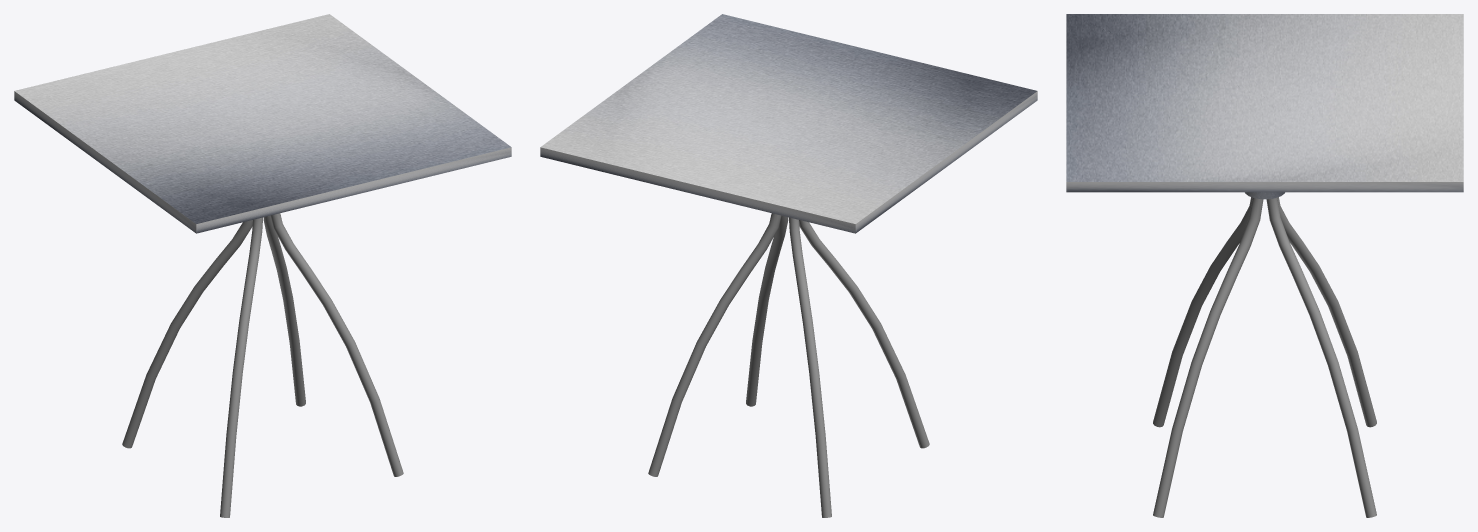
The model's file is MesaCafeteria.FBX.
3 views of the same model, side by side, from view 1: azimuth 30°, elevation 25°; view 2: azimuth 150°, elevation 25°; view 3: azimuth 270°, elevation 25° (orthographic). The views are drawn at different scales.
Parts seen in each view (by area): view 1: Tabla, Patas; view 2: Tabla, Patas; view 3: Tabla, Patas.
Boxes of the visible parts, box(x1,y1,x2,y2) form: Tabla: box(14, 14, 511, 233); Patas: box(122, 213, 403, 517); Tabla: box(540, 14, 1037, 233); Patas: box(648, 213, 929, 517); Tabla: box(1066, 14, 1463, 192); Patas: box(1153, 197, 1376, 517).
Bounding box in the file's own units: 27.56 × 28.59 × 27.56.
2 materials, 1 textured.
